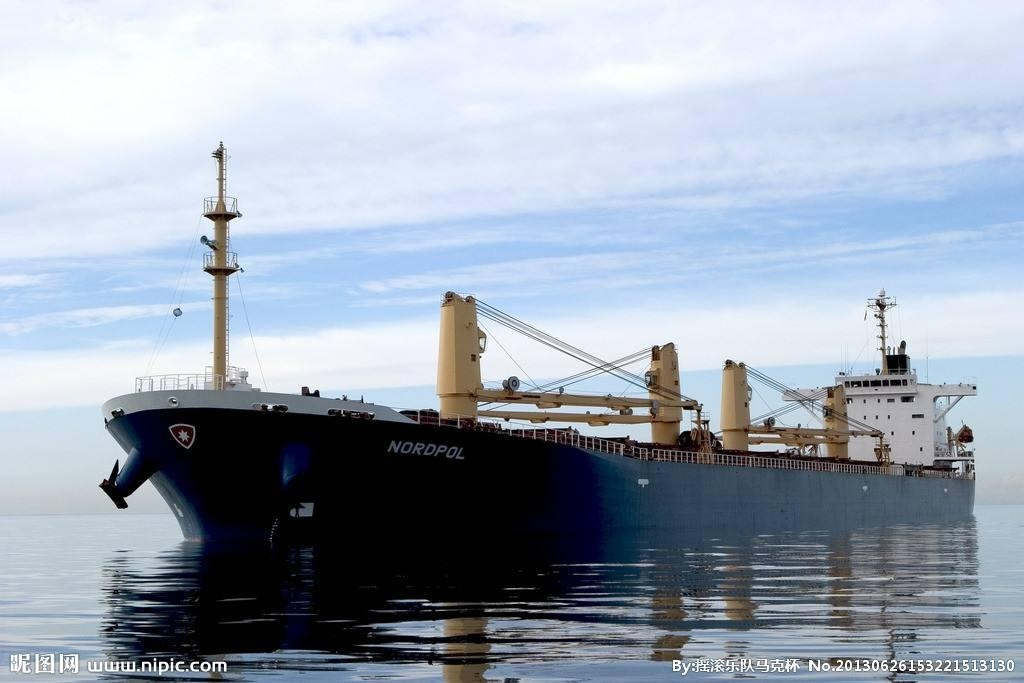Cargoship: (89, 142, 1008, 549)
